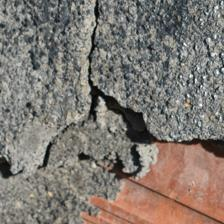Crack: (0, 26, 111, 74), (81, 58, 155, 124), (71, 46, 103, 109)
